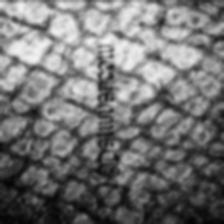Non-Cancerous Skin Condition: (127, 8, 224, 224), (0, 0, 83, 170), (0, 186, 117, 224)
